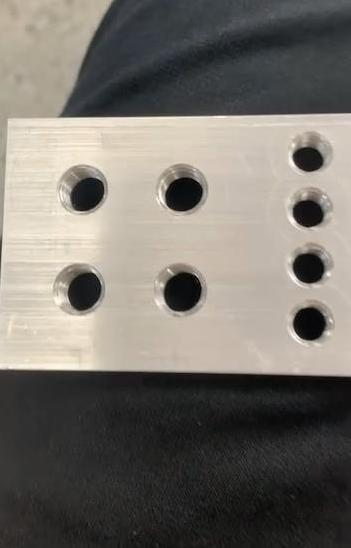hole: (55, 163, 110, 220), (154, 161, 210, 216), (152, 262, 207, 318), (50, 263, 104, 320), (286, 186, 336, 231), (288, 299, 336, 345), (286, 244, 336, 286), (288, 133, 332, 175)
